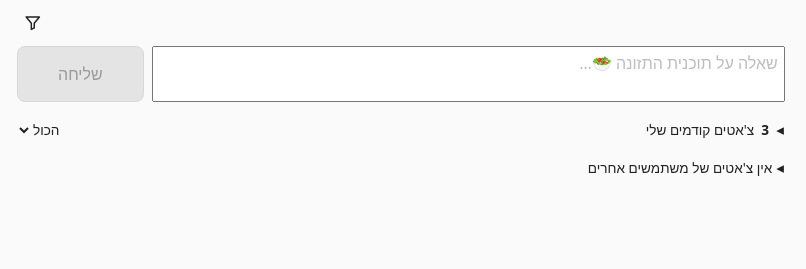
Test case: Chat › counts the chats the user shared, by the server's figure and then by the transcript
Expected: the button "3 צ'אטים קודמים שלי" is shown, [72,118,785,140]
Select "ששיתפתי" in the dropdown named "סינון הצ'אטים" at [40, 130], box [17,122,64,139]
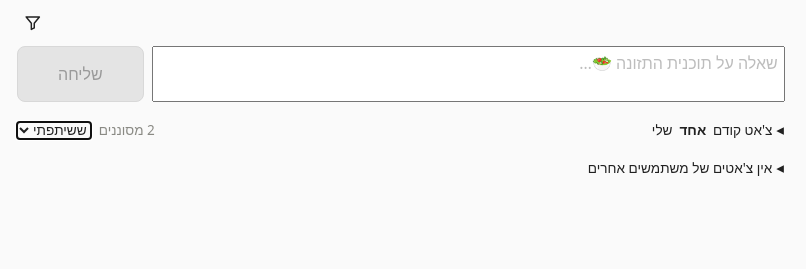
Expected: the button "צ'אט קודם אחד שלי" is shown
Expected: the text "2 מסוננים" is shown, [99,120,155,139]
Click the button "צ'אט קודם אחד שלי" at [741, 129], box [163,118,785,140]
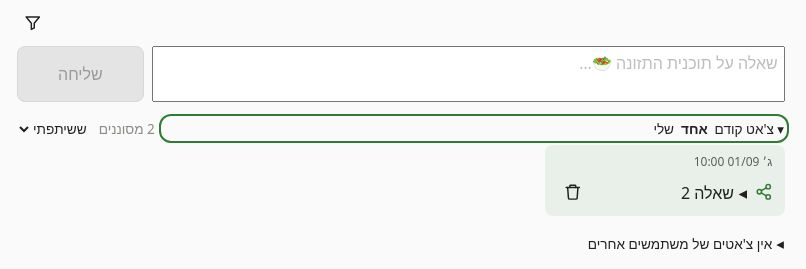
Expected: the button "צ'אט קודם אחד שלי" is shown, [163,118,785,139]
Expected: the button "שאלה 2" is shown, [595,179,748,205]
